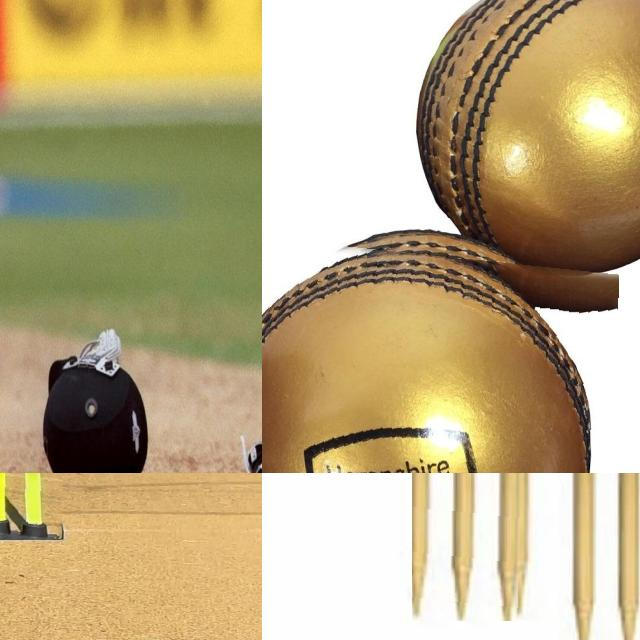Cricket ball: (262, 233, 619, 473)
Stumps: (412, 473, 527, 621), (568, 473, 640, 640)
